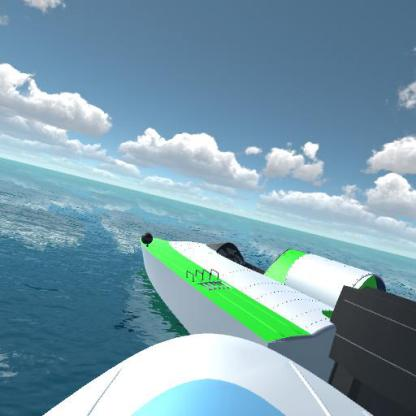usv0: (132, 224, 415, 402)
